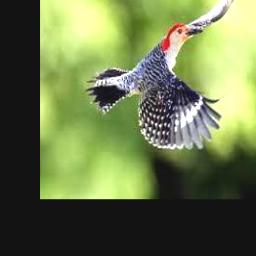Woodpecker: (87, 0, 236, 149)
